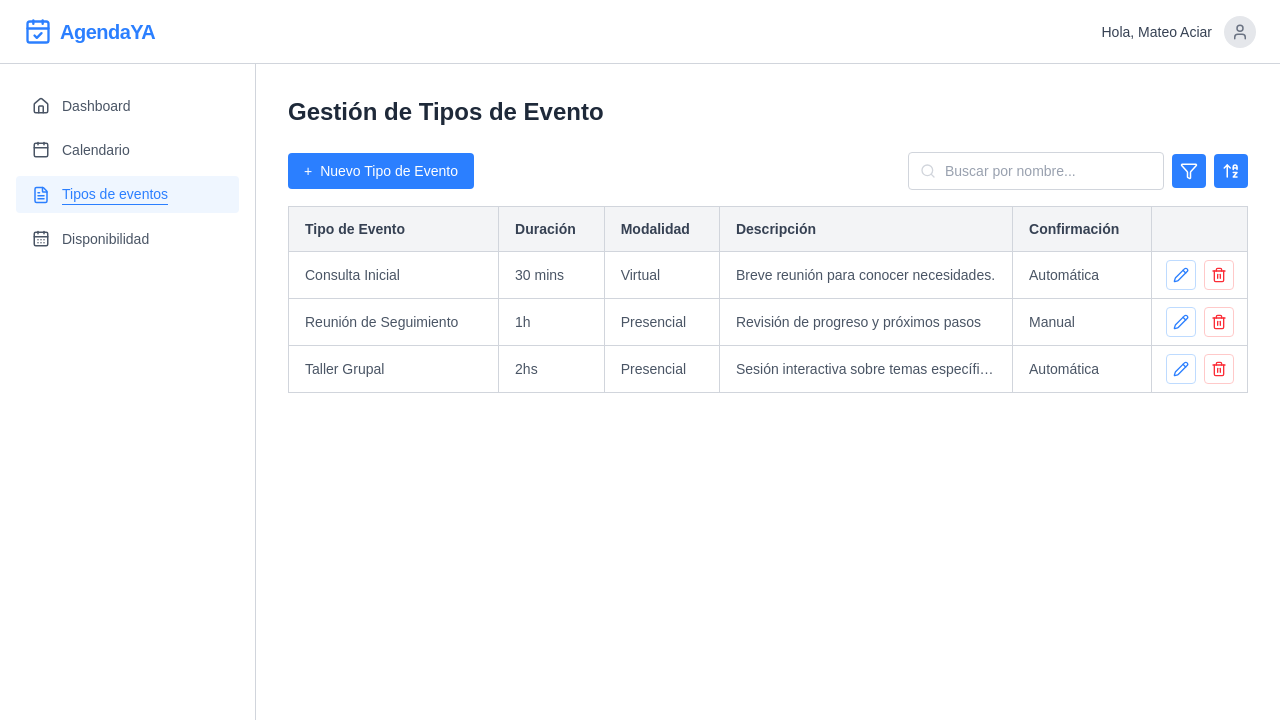
Scenario: AgendaYA - Módulo 03: Tipos de Evento - Edición de Evento Existente › Debe permitir editar los datos de un tipo de evento existente y reflejar los cambios en la tabla manteniendo los campos no modificados
Expected: the heading "Gestión de Tipos de Evento" is shown, [288,98,604,125]
Click the 1st button with test id "btn-edit-event". click: {"x": 1181, "y": 275}
box: [1166,260,1196,290]
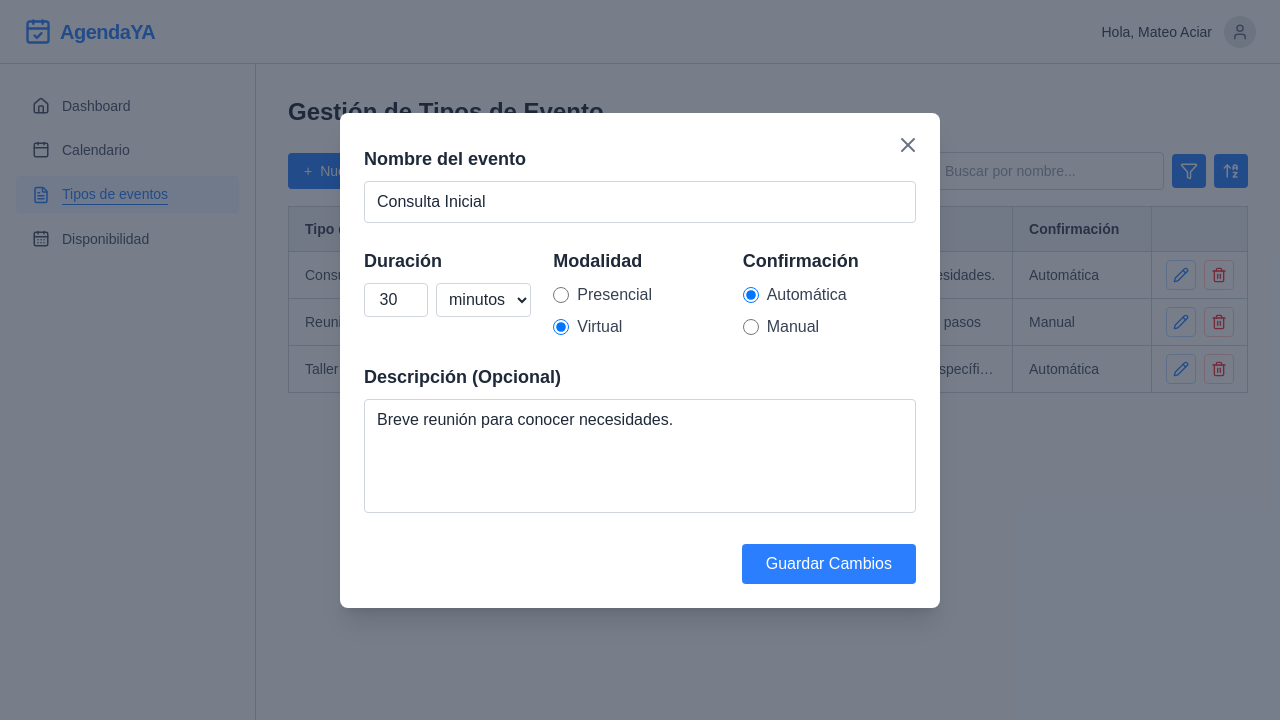
Expected: the element with test id "modal-event-type" is shown, [340,113,940,608]
Replace the text in the field with test id "input-event-name" with "Consulta Médica Especializada". click: {"x": 640, "y": 202}
box: [364,181,916,223]
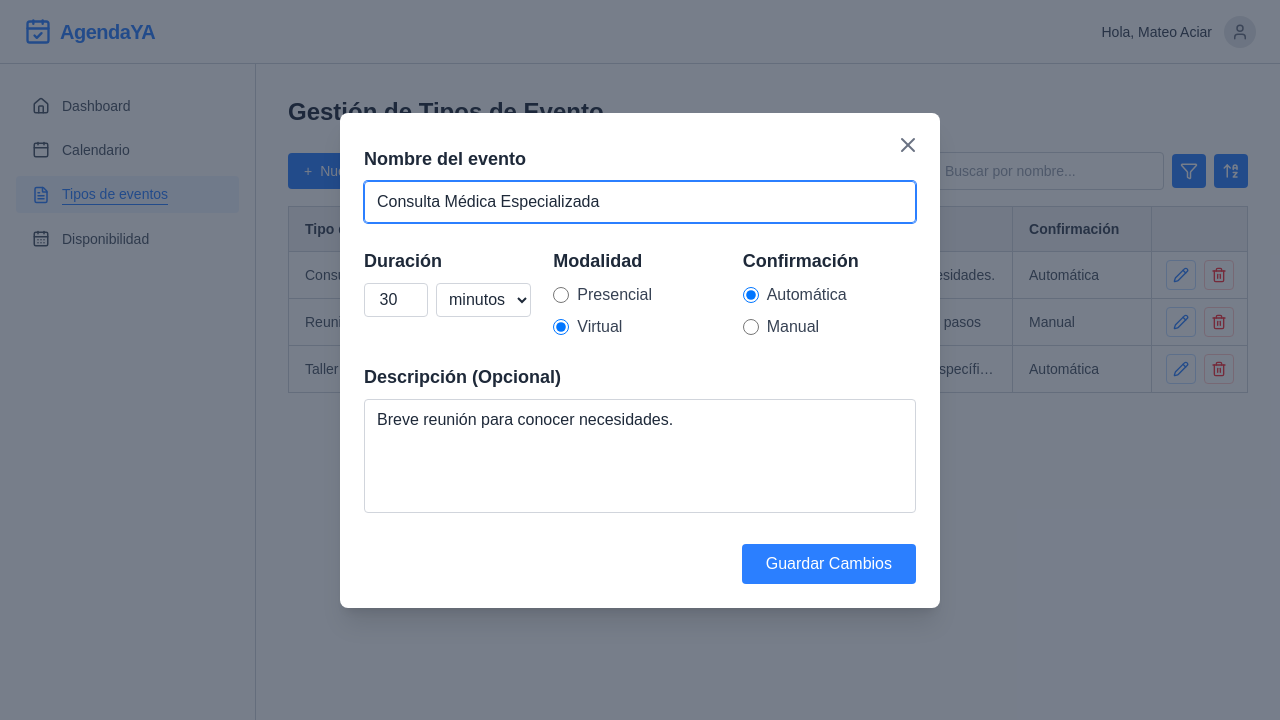
Replace the text in the number field with test id "input-event-duration" with "45". click: {"x": 396, "y": 300}
box: [364,283,428,317]
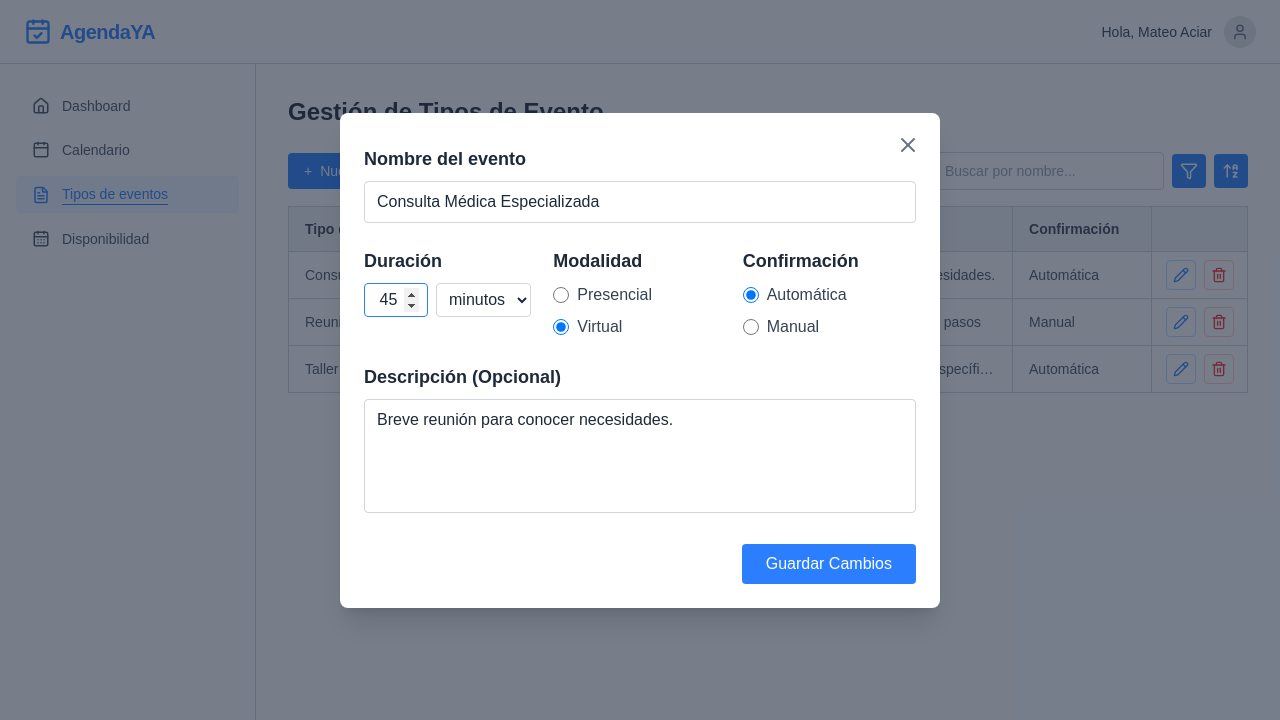
Check the radio button with test id "radio-modality-presencial". click: {"x": 561, "y": 295}
box: [553,287,569,303]
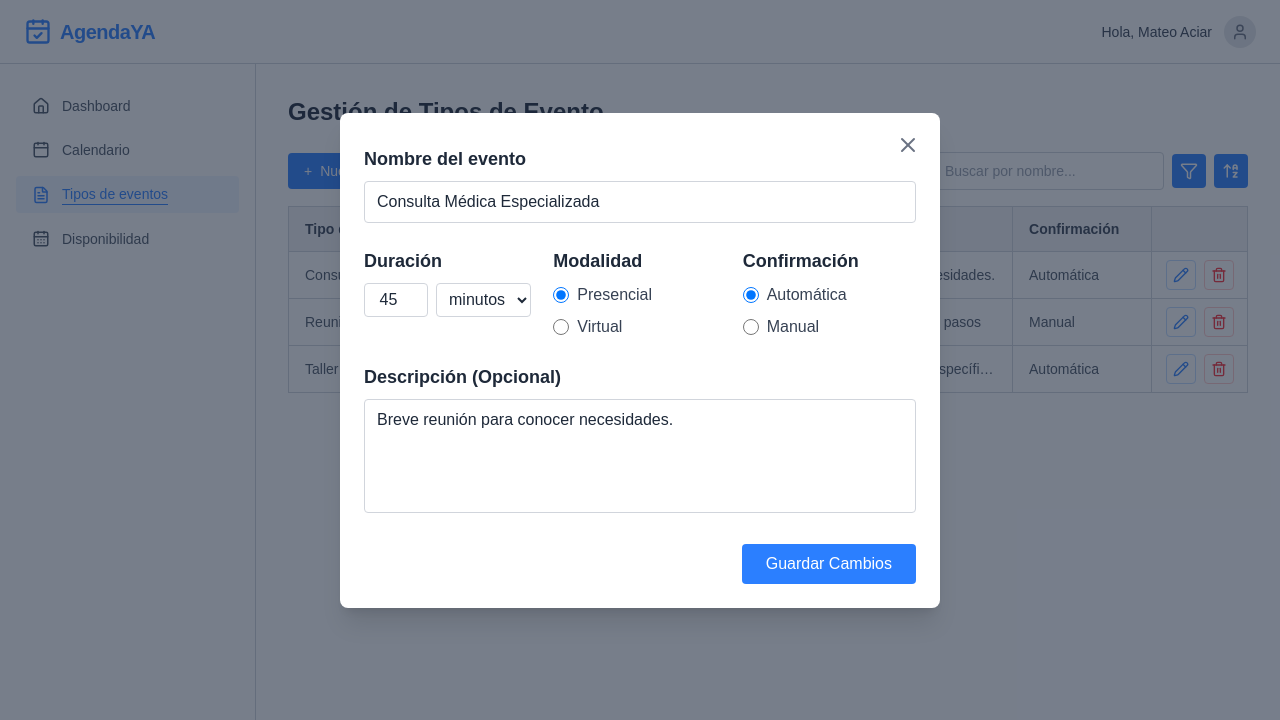
Check the radio button with test id "radio-confirmation-manual". click: {"x": 751, "y": 327}
box: [743,319,759,335]
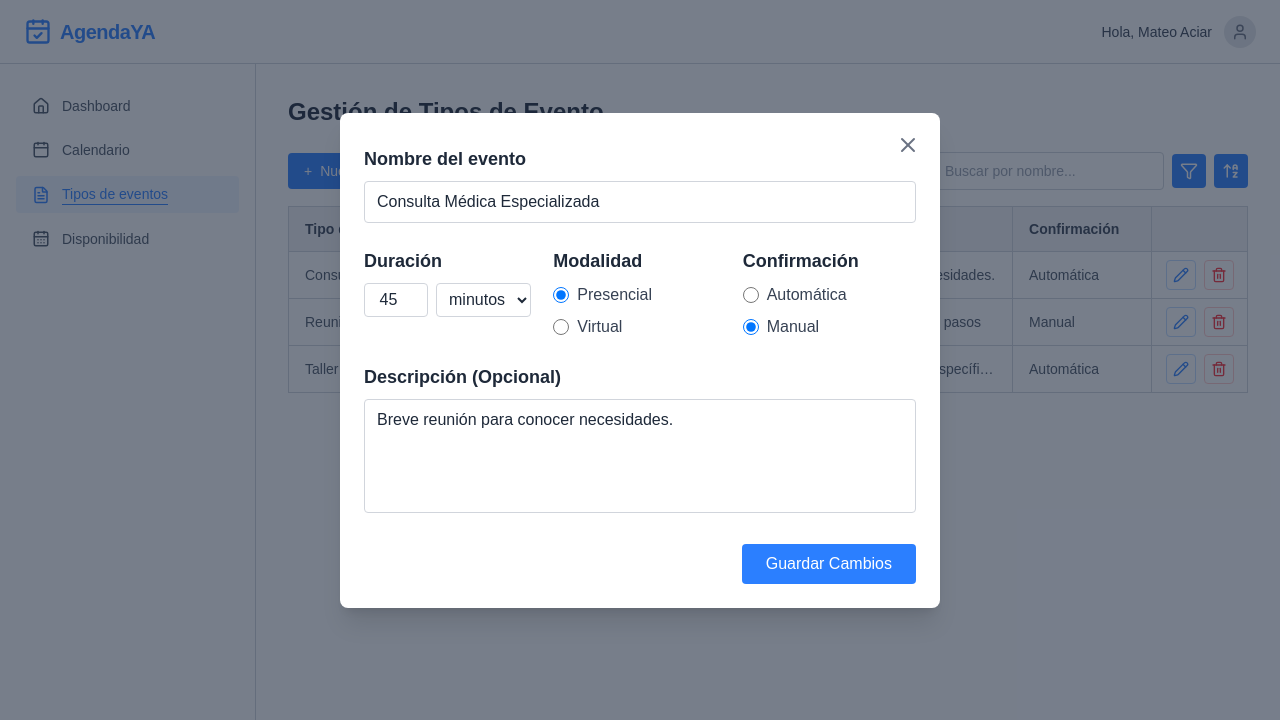
Click the button with test id "btn-save-event". click: {"x": 829, "y": 564}
box: [742,544,916,584]
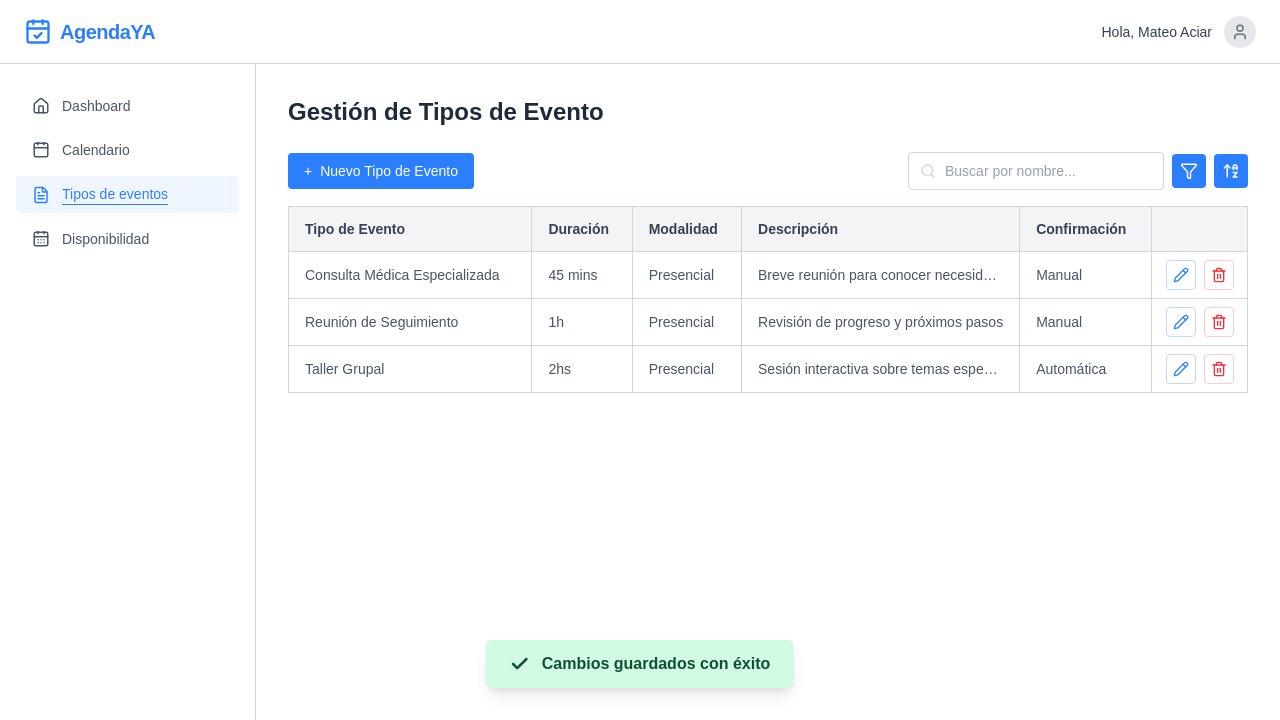
Expected: the element with test id "toast-notification" reads "Cambios guardados con éxito", [486,640,795,688]
Expected: the cell "Consulta Médica Especializada" is shown, [288,252,532,298]
Expected: the cell "45 mins" is shown, [532,252,632,298]
